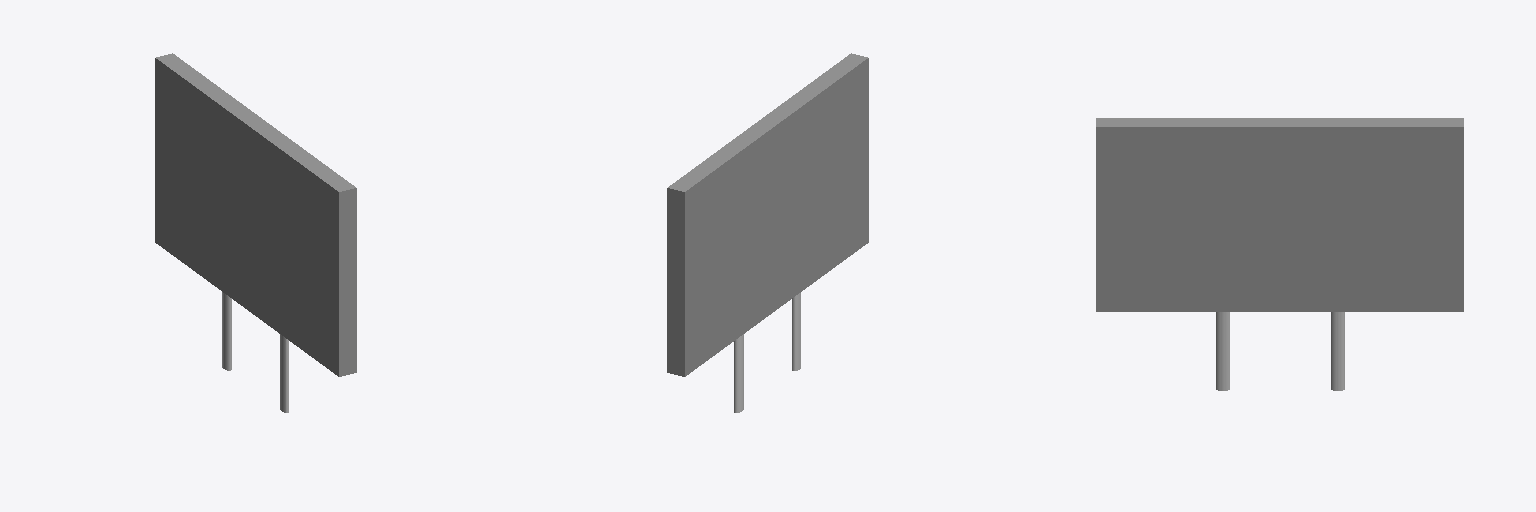
File: backboardStefan.obj
3 views of the same model, side by side, from view 1: azimuth 30°, elevation 25°; view 2: azimuth 150°, elevation 25°; view 3: azimuth 270°, elevation 25° (orthographic).
Visible parts, largest first — view 1: Cube_Cube.001, Cylinder.002_Cylinder.003, Cylinder; view 2: Cube_Cube.001, Cylinder.002_Cylinder.003, Cylinder; view 3: Cube_Cube.001, Cylinder, Cylinder.002_Cylinder.003.
Part boxes in pixels (x1,y1,x2,y2): Cube_Cube.001: (155,53,356,376); Cylinder.002_Cylinder.003: (222,292,231,370); Cylinder: (280,334,288,412); Cube_Cube.001: (667,53,868,376); Cylinder.002_Cylinder.003: (734,334,743,412); Cylinder: (792,293,800,370); Cube_Cube.001: (1096,118,1463,311); Cylinder: (1216,312,1229,390); Cylinder.002_Cylinder.003: (1331,312,1344,390).
Bounding box in the file's own units: 3.02 × 43.58 × 54.45.